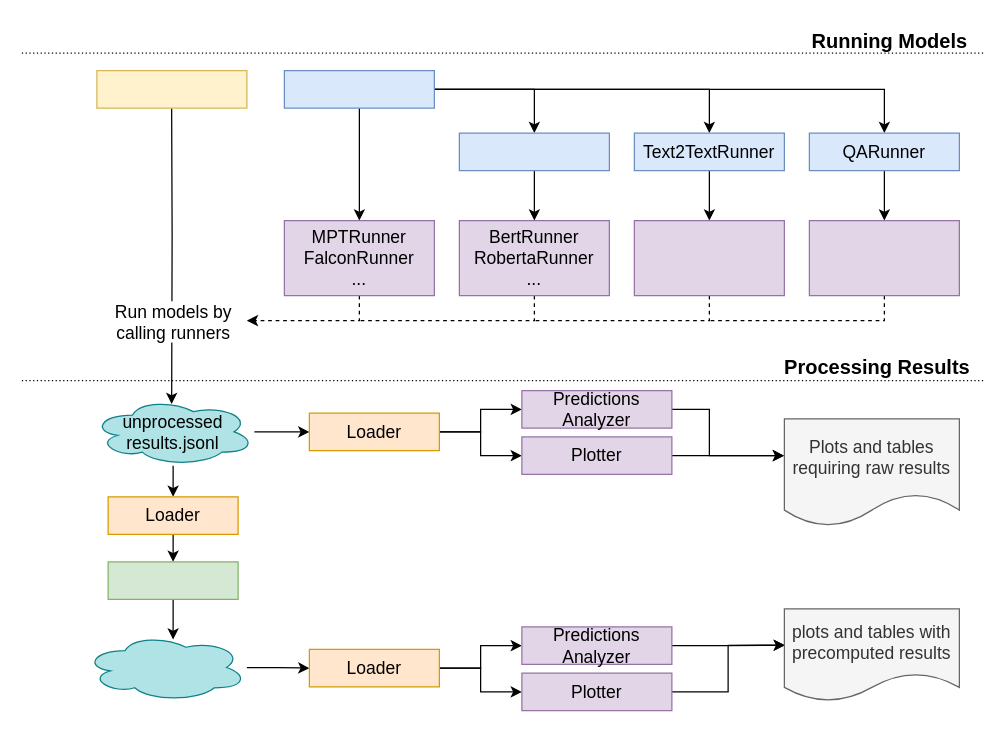
This 1008x733 diagram has some shape labels left out. The box of each missing label's shape, as (x1, y1, x2, y2) in pixels:
Abstract Runner: (283, 69, 434, 108)
DebertaQARunner DistilberQARunner ...: (808, 219, 959, 296)
Evaluator: (107, 561, 238, 599)
FillMaskRunner: (458, 132, 609, 171)
Flan_T5Runner MT0Runner ...: (633, 219, 784, 296)
Model Runner: (96, 69, 247, 108)
processed results.jsonl: (83, 632, 247, 701)
